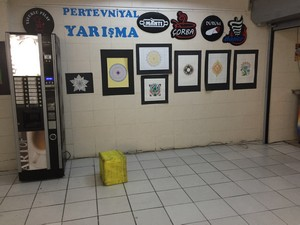cube: (98, 150, 129, 186)
